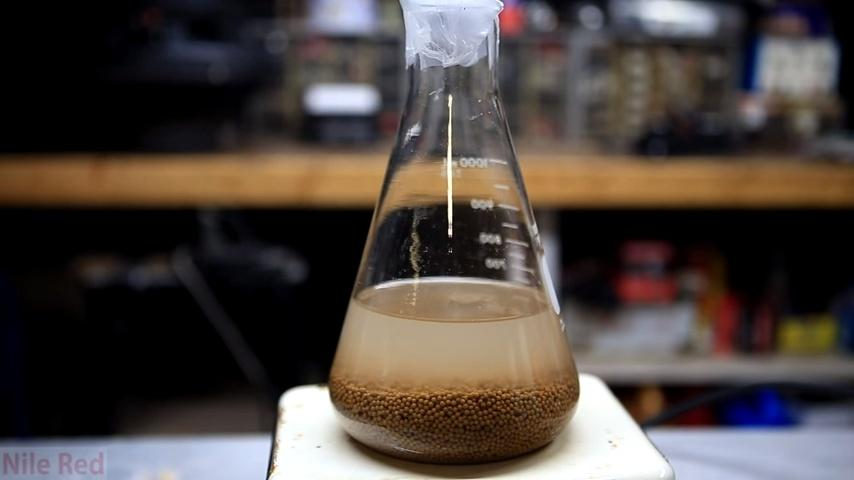Titrarion: (330, 12, 579, 453)
